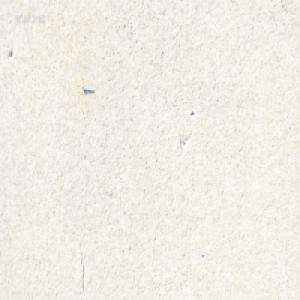Nail: (82, 85, 96, 93)
